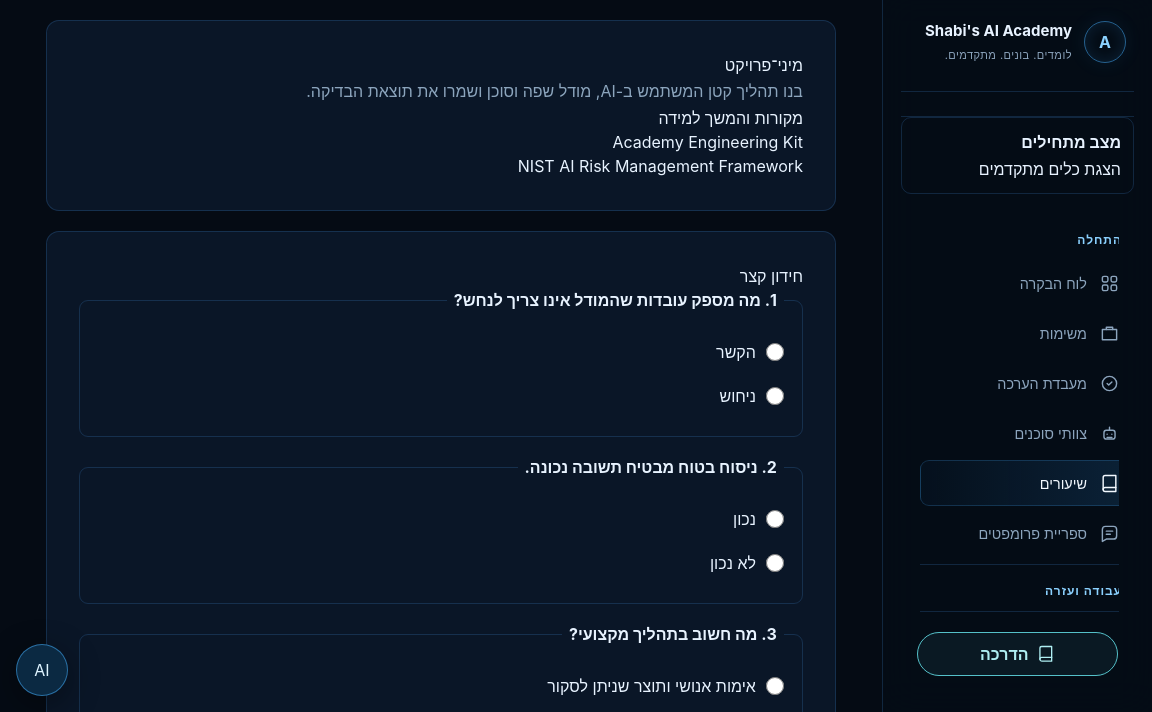
Test: Lesson quiz and completion › scores answers and lets the learner retry
(page scrolled)
Click the radio button labelled "הקשר".
click(775, 352)  # box [766,343,784,361]
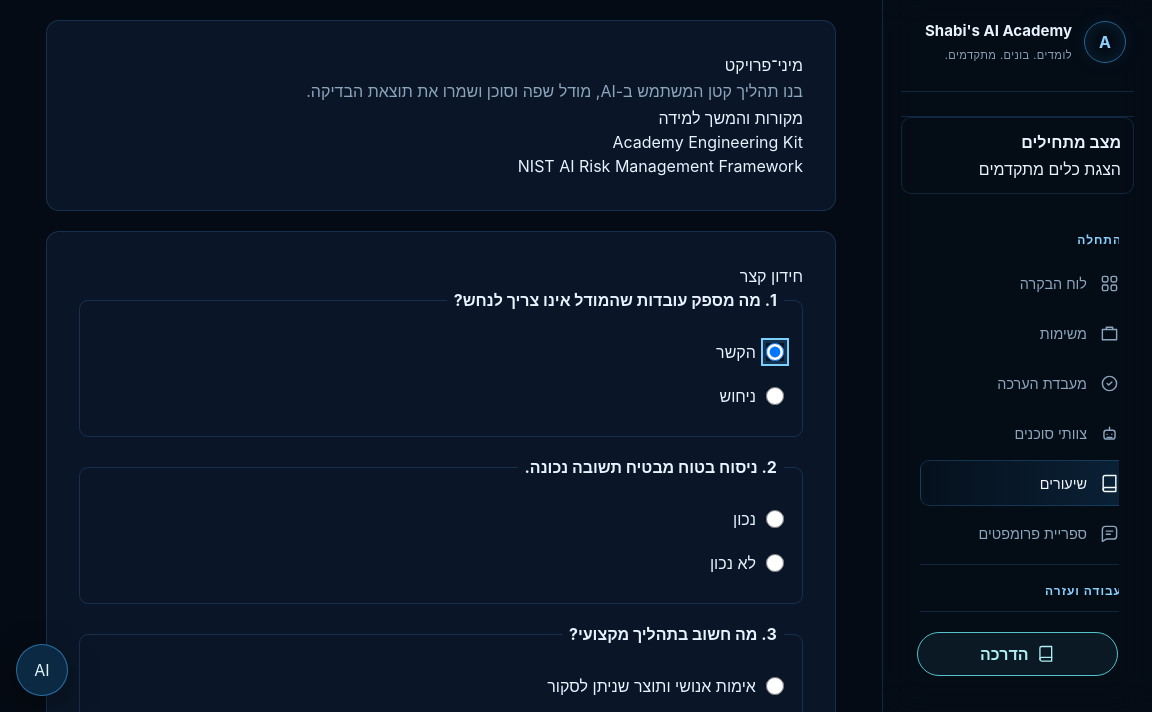
Click the radio button labelled "נכון".
click(775, 519)  # box [766,510,784,528]
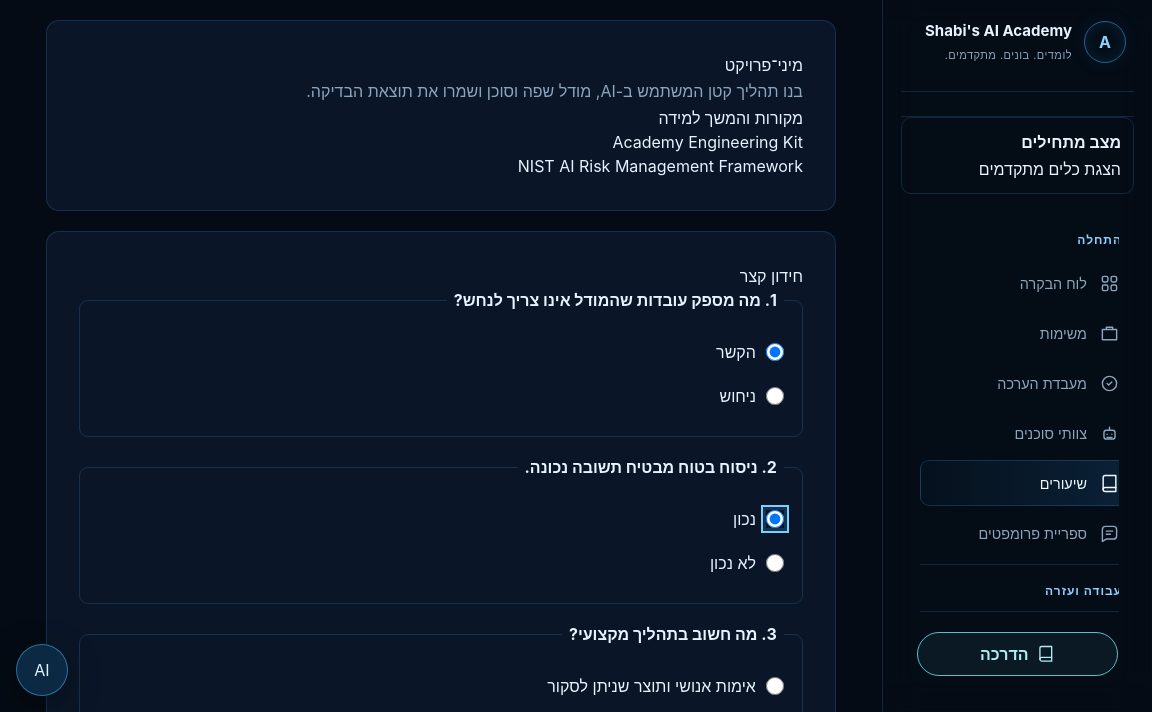
Click the radio button labelled "אימות אנושי ותוצר שניתן לסקור".
click(775, 686)  # box [766,677,784,695]
(page scrolled)
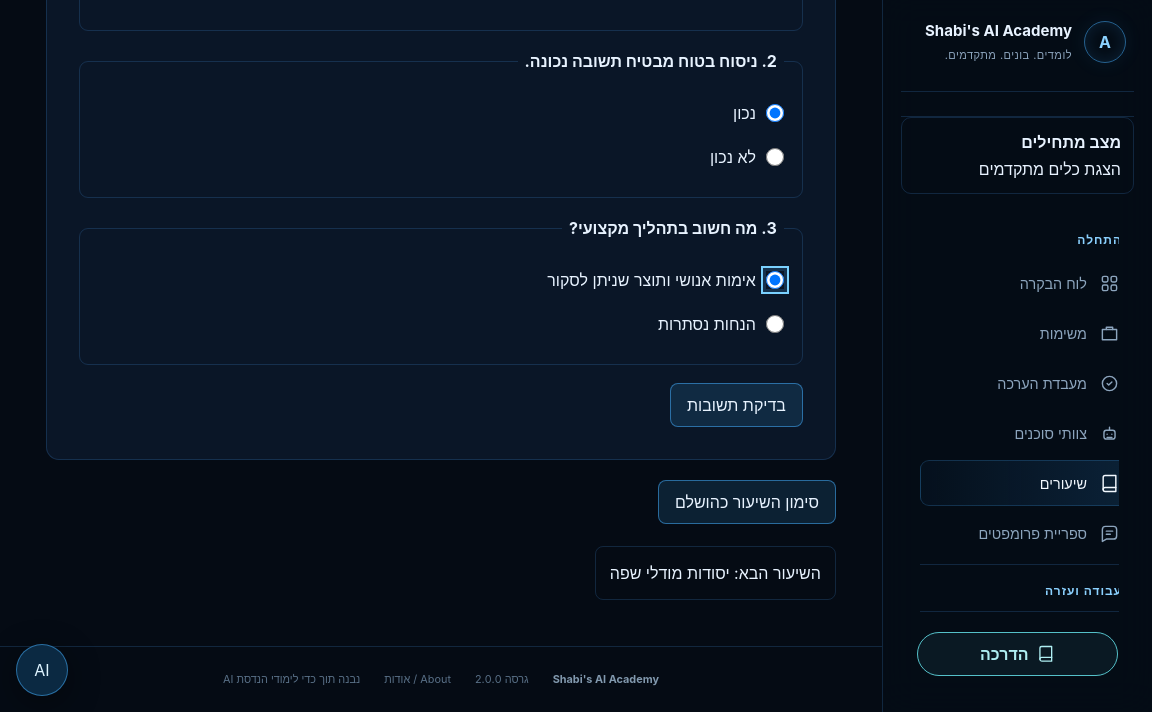
Click the button "בדיקת תשובות".
click(736, 405)  # box [670,383,803,427]
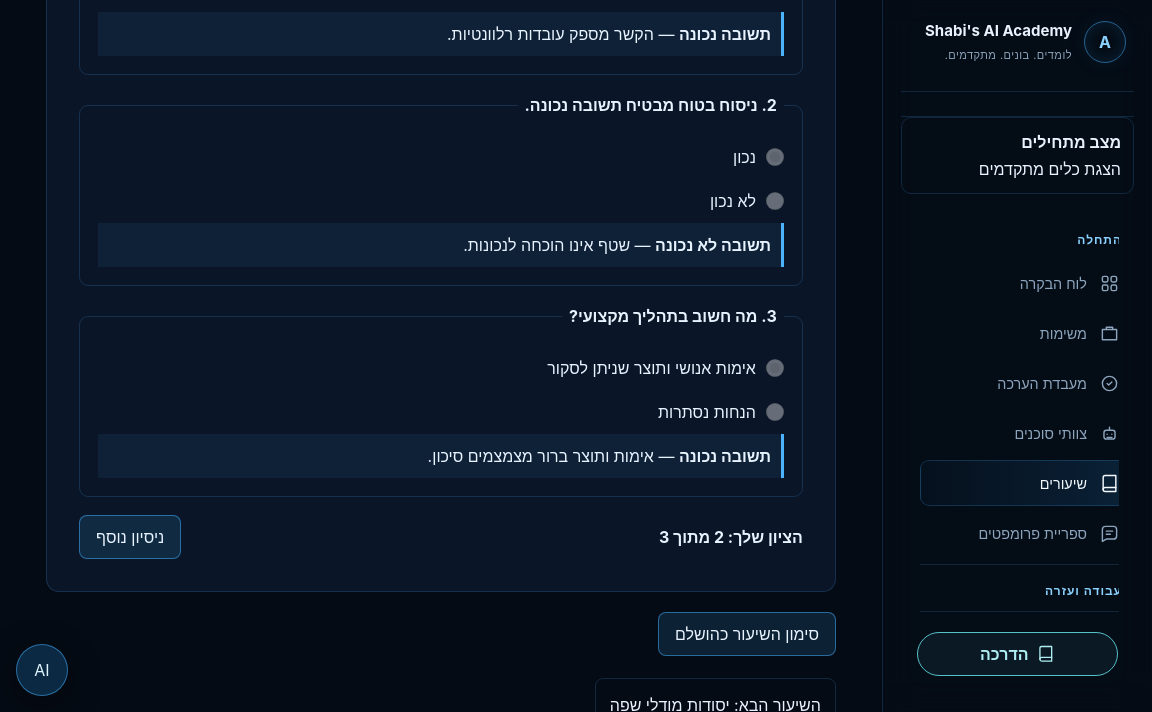
Expected: the text "הציון שלך: 2 מתוך 3" is shown, [659,525,803,549]
Click the button "ניסיון נוסף".
click(130, 537)  # box [79,515,181,559]
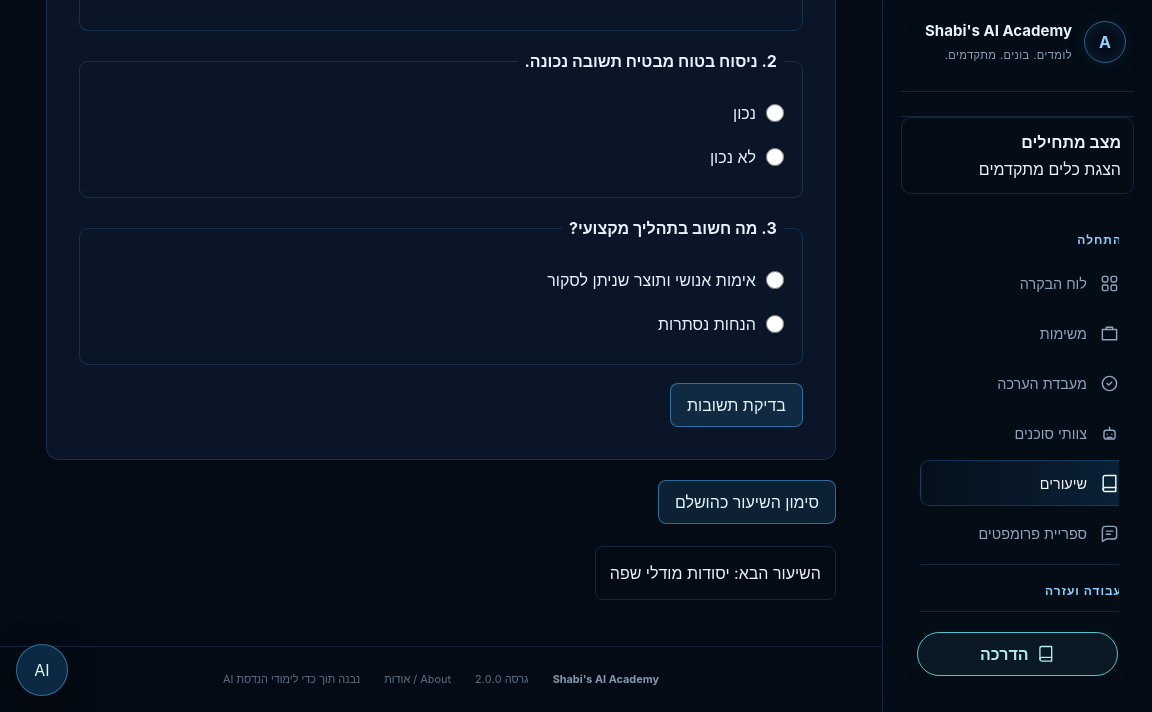
Expected: the button "בדיקת תשובות" is shown, [670,383,803,427]
